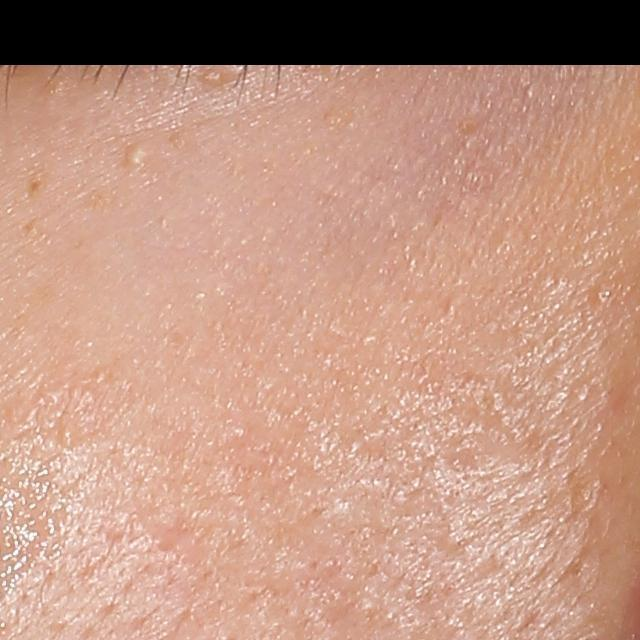comedo: (594, 285, 613, 304)
melasma: (25, 164, 54, 199), (22, 217, 41, 237)
other: (200, 61, 236, 88)
